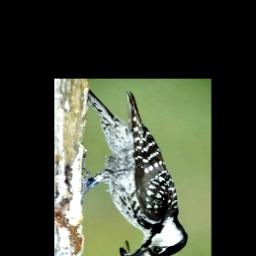Woodpecker: (87, 87, 189, 256)
